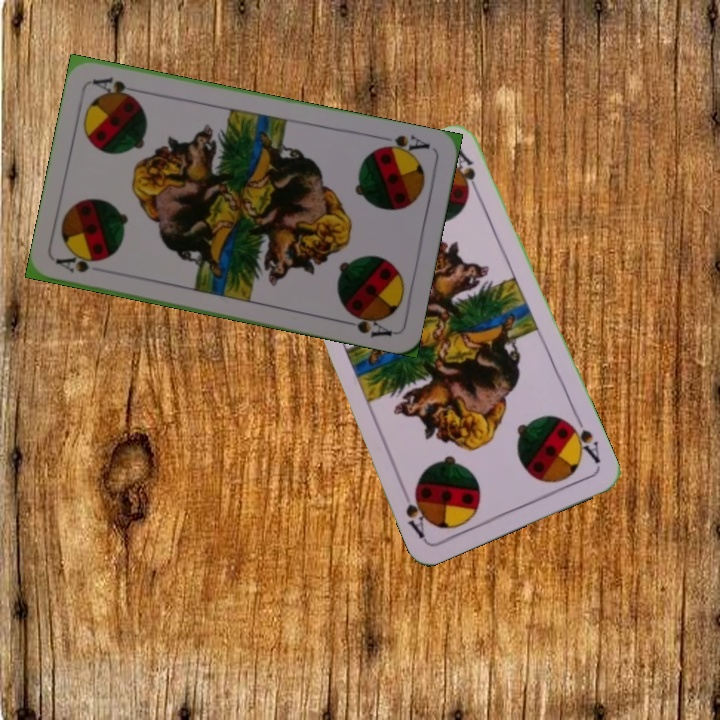SA: (562, 411, 603, 467), (373, 131, 433, 160), (53, 251, 105, 275)
